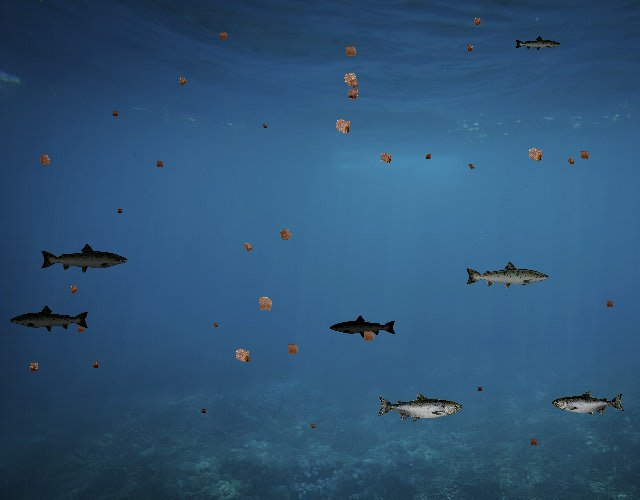Fish: (40, 243, 130, 275), (464, 260, 550, 291), (376, 392, 462, 423), (10, 304, 91, 333), (552, 390, 625, 417), (330, 314, 398, 338), (515, 35, 562, 52)
Pellet: (575, 145, 594, 164), (344, 75, 363, 94), (422, 150, 435, 163), (109, 107, 121, 119), (210, 320, 220, 330)
